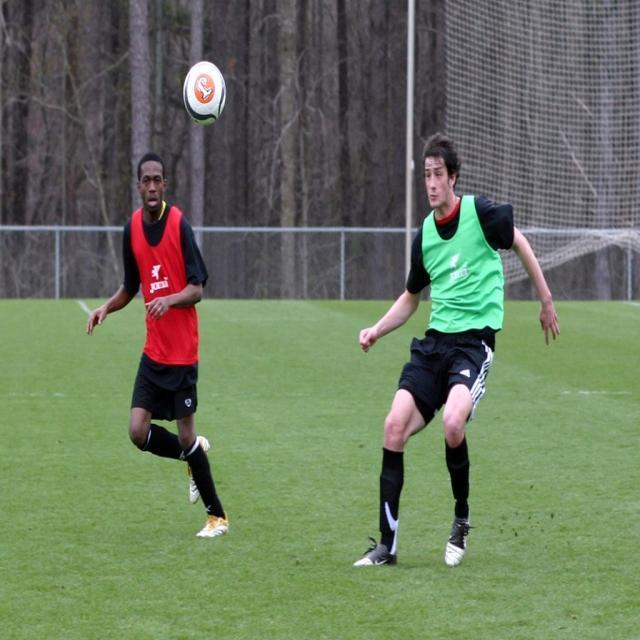football: (174, 63, 243, 138)
